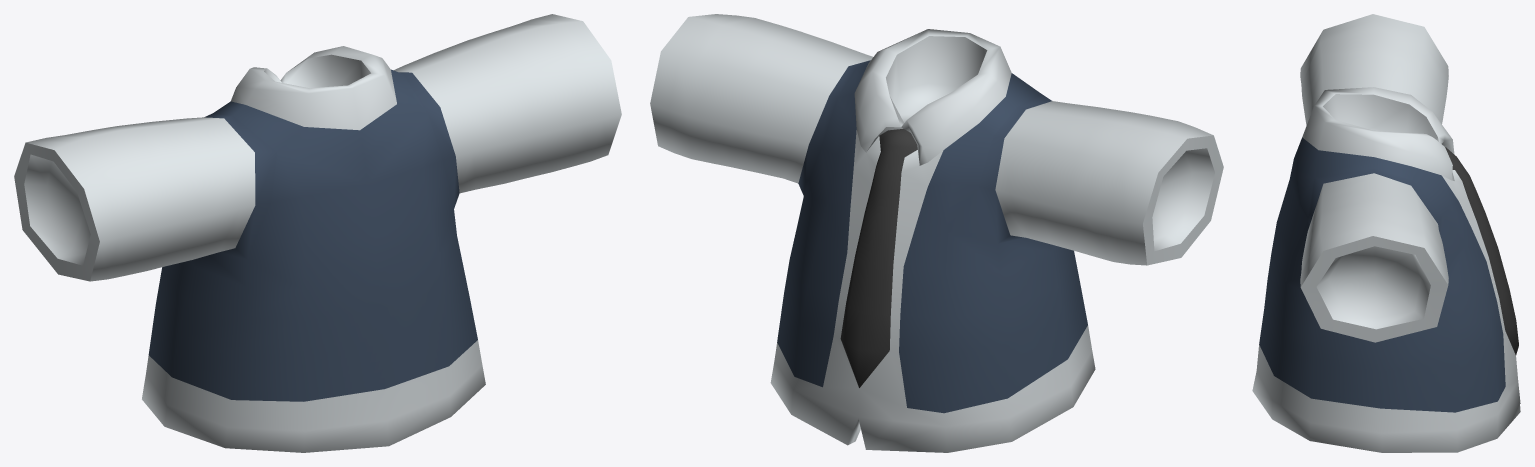
File: Top_26.fbx
3 renders of one model, left to right at view 1: azimuth 30°, elevation 25°; view 2: azimuth 150°, elevation 25°; view 3: azimuth 270°, elevation 25°, orthographic. The views are drawn at different scales.
Visible parts, largest first — view 1: Top_26; view 2: Top_26; view 3: Top_26.
Part boxes in pixels (x1,y1,x2,y2): Top_26: (14,14,621,452); Top_26: (650,14,1223,452); Top_26: (1252,14,1520,452).
Bounding box in the file's own units: 80.35 × 51.29 × 41.04.
